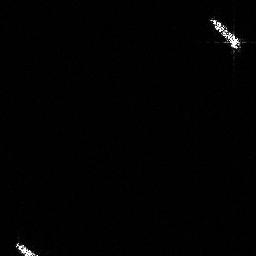ship: (205, 13, 246, 53), (13, 239, 42, 256)
